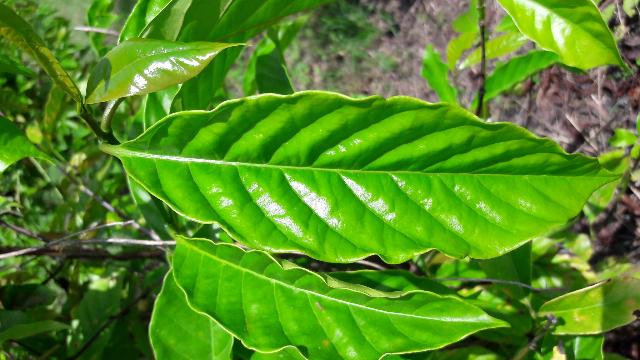healthy: (119, 90, 620, 264)
